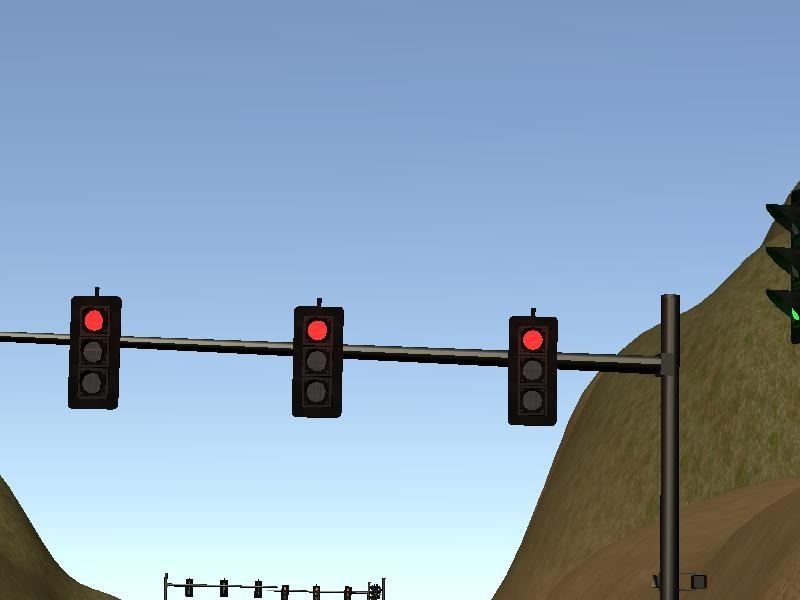RED: (68, 295, 120, 409), (506, 317, 557, 426), (292, 308, 343, 417)
